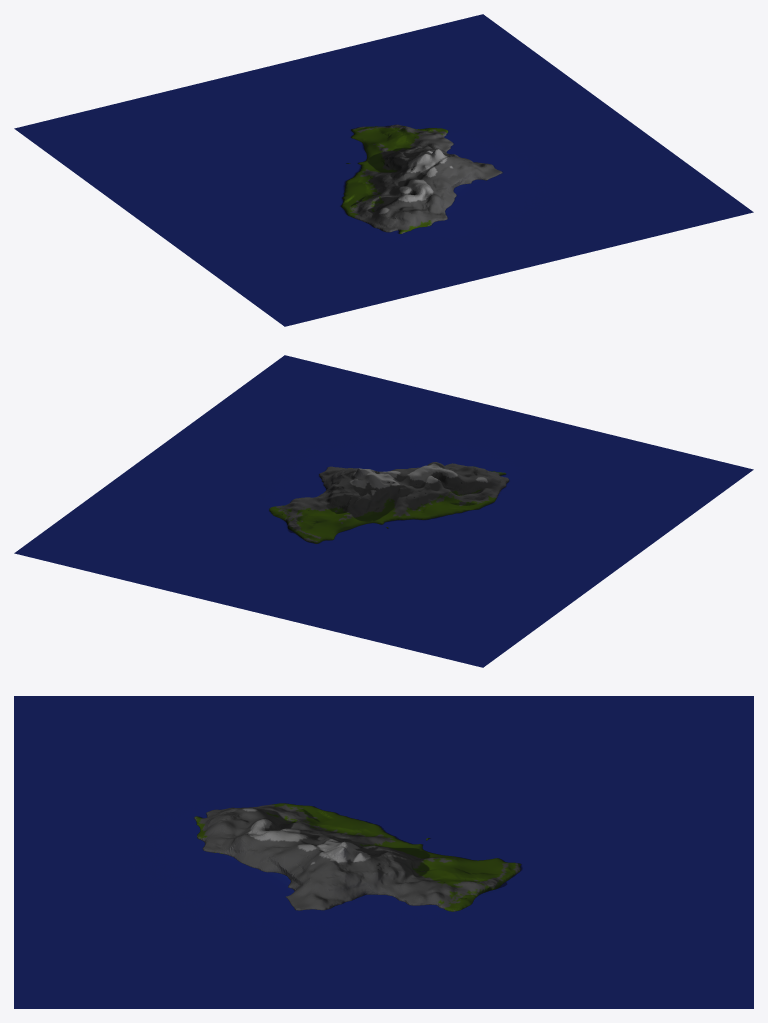
File: Terrain_01_05.fbx
3 renders of one model, top to bottom at view 1: azimuth 30°, elevation 25°; view 2: azimuth 150°, elevation 25°; view 3: azimuth 270°, elevation 25°, orthographic. The views are drawn at different scales.
Parts seen in each view (by area): view 1: Terrain_01_05_Baked; view 2: Terrain_01_05_Baked; view 3: Terrain_01_05_Baked.
Boxes of the visible parts, x1=… form: Terrain_01_05_Baked: x1=14, y1=14, x2=753, y2=326; Terrain_01_05_Baked: x1=14, y1=355, x2=753, y2=667; Terrain_01_05_Baked: x1=14, y1=696, x2=753, y2=1008.
Size of the model in its own units: 1000000 by 49613 by 1000000.
1 material, 1 textured.
